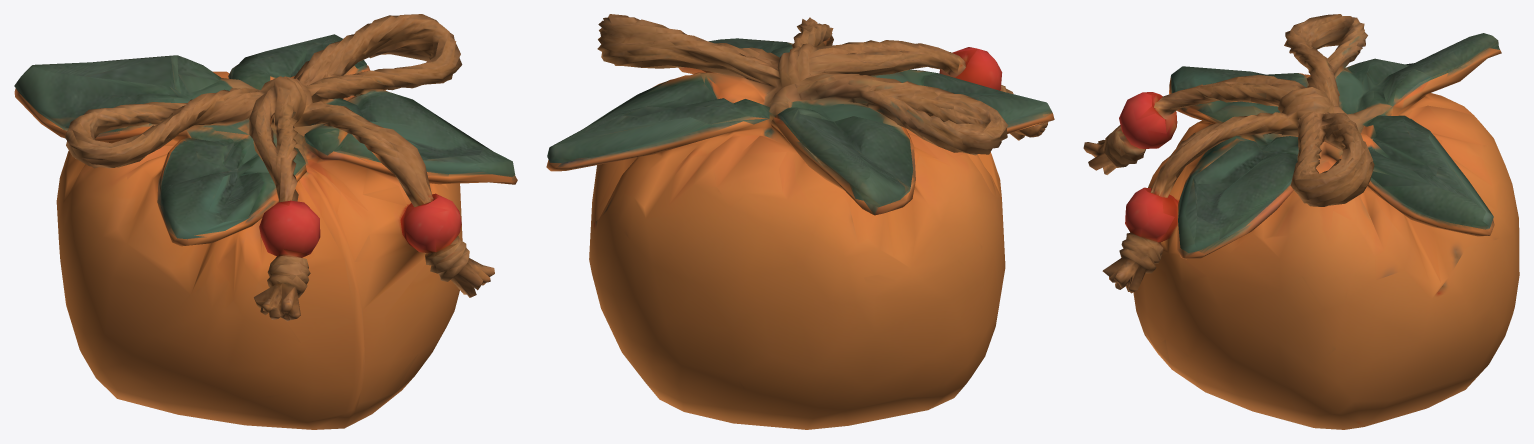
Rendered from 心想柿成香包-Small.fbx.
3 views of the same model, side by side, from view 1: azimuth 30°, elevation 25°; view 2: azimuth 150°, elevation 25°; view 3: azimuth 270°, elevation 25° (orthographic). The views are drawn at different scales.
Parts seen in each view (by area): view 1: texture_pbr_v128; view 2: texture_pbr_v128; view 3: texture_pbr_v128.
Boxes of the visible parts, box(x1,y1,x2,y2) form: texture_pbr_v128: box(14, 14, 517, 429); texture_pbr_v128: box(546, 14, 1054, 429); texture_pbr_v128: box(1083, 14, 1519, 429).
Size of the model in its own units: 89.61 by 67.48 by 92.44.
1 material, 1 textured.
